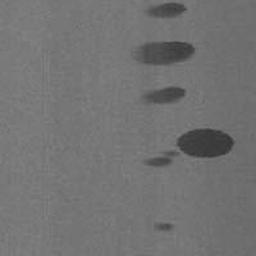Oil spot: (138, 125, 237, 170), (129, 40, 198, 69), (137, 84, 188, 110), (142, 1, 188, 20), (151, 220, 177, 233)
